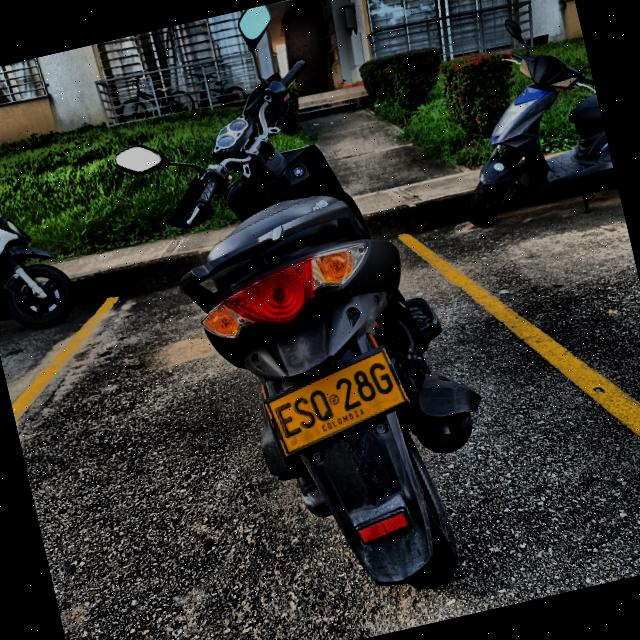plate: (267, 350, 404, 453)
